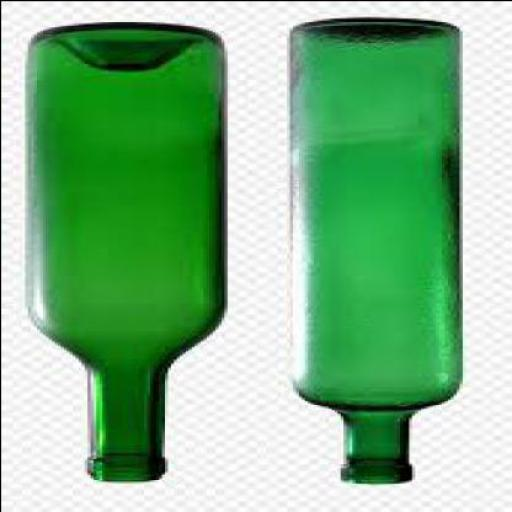glass: (26, 22, 230, 483), (288, 19, 458, 486)
